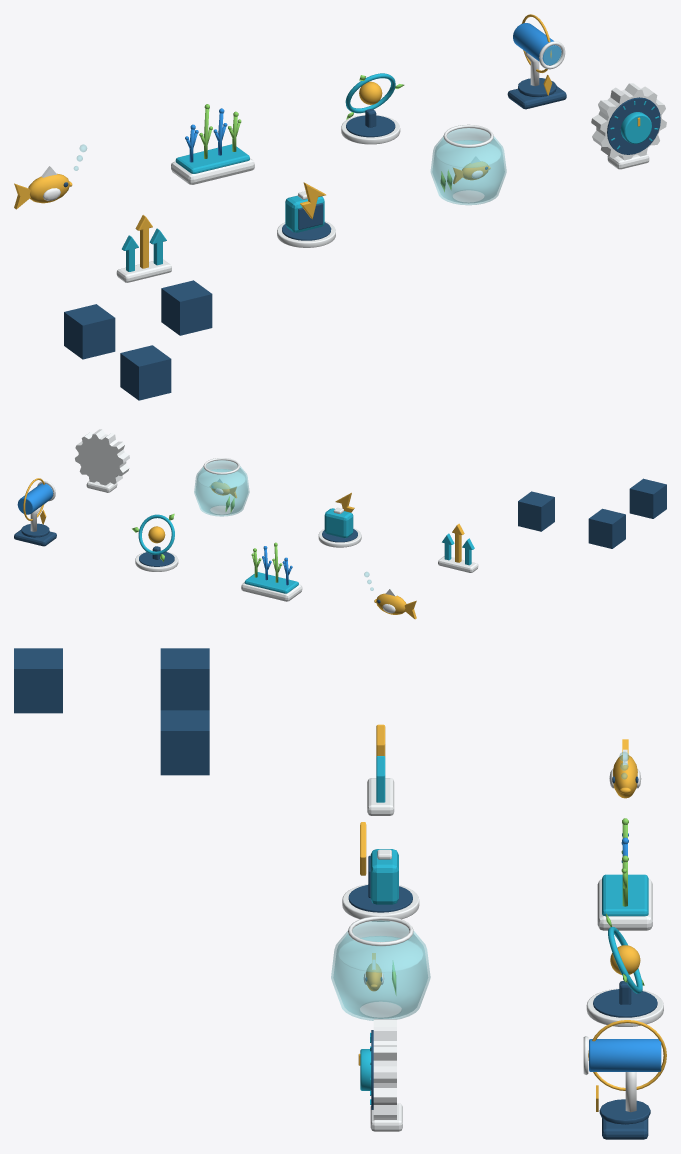
Rendered from catalog-004.glb.
The picture shows the model from 3 angles, top to bottom: view 1: azimuth 30°, elevation 25°; view 2: azimuth 150°, elevation 25°; view 3: azimuth 270°, elevation 25°; orthographic projection. The views are drawn at different scales.
Parts seen in each view (by area): view 1: fishbowl__Water_glass_02, catalog_004__calibration_origin, catalog_004__calibration_right, catalog_004__calibration_front, gain_dial__Fixed_pearl_03, gain_dial__Fixed_dark_01, fishbowl__Waterline_glass_03, growth_array__Fixed_teal_07, horizon_observatory__Fixed_dark_02, horizon_observatory__EvolvedLens_blue_01, first_spark__Fixed_dark_01, growth_ring__Fixed_dark_01 (+8 smaller); view 2: fishbowl__Water_glass_02, gain_dial__Fixed_pearl_03, catalog_004__calibration_origin, catalog_004__calibration_front, catalog_004__calibration_right, first_spark__Fixed_teal_04, fishbowl__Waterline_glass_03, growth_array__Fixed_teal_07, horizon_observatory__EvolvedLens_blue_01, horizon_observatory__Fixed_dark_02, growth_array__Fixed_pearl_06, growth_ring__Fixed_dark_01 (+5 smaller); view 3: fishbowl__Water_glass_02, catalog_004__calibration_right, catalog_004__calibration_front, catalog_004__calibration_origin, gain_dial__Fixed_pearl_03, horizon_observatory__EvolvedLens_blue_01, fishbowl__Waterline_glass_03, growth_array__Fixed_teal_07, horizon_observatory__Fixed_dark_02, growth_ring__Fixed_dark_01, first_spark__Fixed_teal_04, growth_array__Fixed_pearl_06 (+6 smaller).
Part boxes in pixels (x1=…): fishbowl__Water_glass_02: x1=430, y1=128, x2=506, y2=204; catalog_004__calibration_origin: x1=64, y1=304, x2=115, y2=359; catalog_004__calibration_right: x1=161, y1=280, x2=212, y2=335; catalog_004__calibration_front: x1=120, y1=345, x2=171, y2=400; gain_dial__Fixed_pearl_03: x1=591, y1=83, x2=666, y2=169; gain_dial__Fixed_dark_01: x1=607, y1=97, x2=660, y2=154; fishbowl__Waterline_glass_03: x1=436, y1=140, x2=500, y2=167; growth_array__Fixed_teal_07: x1=175, y1=144, x2=249, y2=173; horizon_observatory__Fixed_dark_02: x1=507, y1=78, x2=566, y2=109; horizon_observatory__EvolvedLens_blue_01: x1=513, y1=23, x2=561, y2=65; first_spark__Fixed_dark_01: x1=282, y1=203, x2=331, y2=240; growth_ring__Fixed_dark_01: x1=346, y1=109, x2=395, y2=137; fishbowl__Water_glass_02: x1=194, y1=460, x2=249, y2=516; gain_dial__Fixed_pearl_03: x1=75, y1=429, x2=129, y2=492; catalog_004__calibration_origin: x1=588, y1=508, x2=625, y2=548; catalog_004__calibration_front: x1=629, y1=478, x2=666, y2=518; catalog_004__calibration_right: x1=518, y1=491, x2=554, y2=531; first_spark__Fixed_teal_04: x1=324, y1=508, x2=353, y2=538; fishbowl__Waterline_glass_03: x1=198, y1=469, x2=244, y2=488; growth_array__Fixed_teal_07: x1=244, y1=572, x2=298, y2=593; horizon_observatory__EvolvedLens_blue_01: x1=17, y1=483, x2=53, y2=514; horizon_observatory__Fixed_dark_02: x1=14, y1=523, x2=56, y2=546; growth_array__Fixed_pearl_06: x1=241, y1=582, x2=302, y2=601; growth_ring__Fixed_dark_01: x1=139, y1=546, x2=174, y2=566; fishbowl__Water_glass_02: x1=331, y1=920, x2=430, y2=1020; catalog_004__calibration_right: x1=160, y1=710, x2=209, y2=775; catalog_004__calibration_front: x1=14, y1=648, x2=62, y2=713; catalog_004__calibration_origin: x1=160, y1=648, x2=209, y2=710; gain_dial__Fixed_pearl_03: x1=370, y1=1019, x2=402, y2=1131; horizon_observatory__EvolvedLens_blue_01: x1=589, y1=1039, x2=661, y2=1071; fishbowl__Waterline_glass_03: x1=338, y1=936, x2=422, y2=972; growth_array__Fixed_teal_07: x1=602, y1=874, x2=648, y2=916; horizon_observatory__Fixed_dark_02: x1=599, y1=1099, x2=650, y2=1139; growth_ring__Fixed_dark_01: x1=593, y1=981, x2=657, y2=1017; first_spark__Fixed_teal_04: x1=370, y1=849, x2=398, y2=904; growth_array__Fixed_pearl_06: x1=597, y1=879, x2=652, y2=930.
Size of the model in its own units: 5.75 by 0.679 by 3.74.
